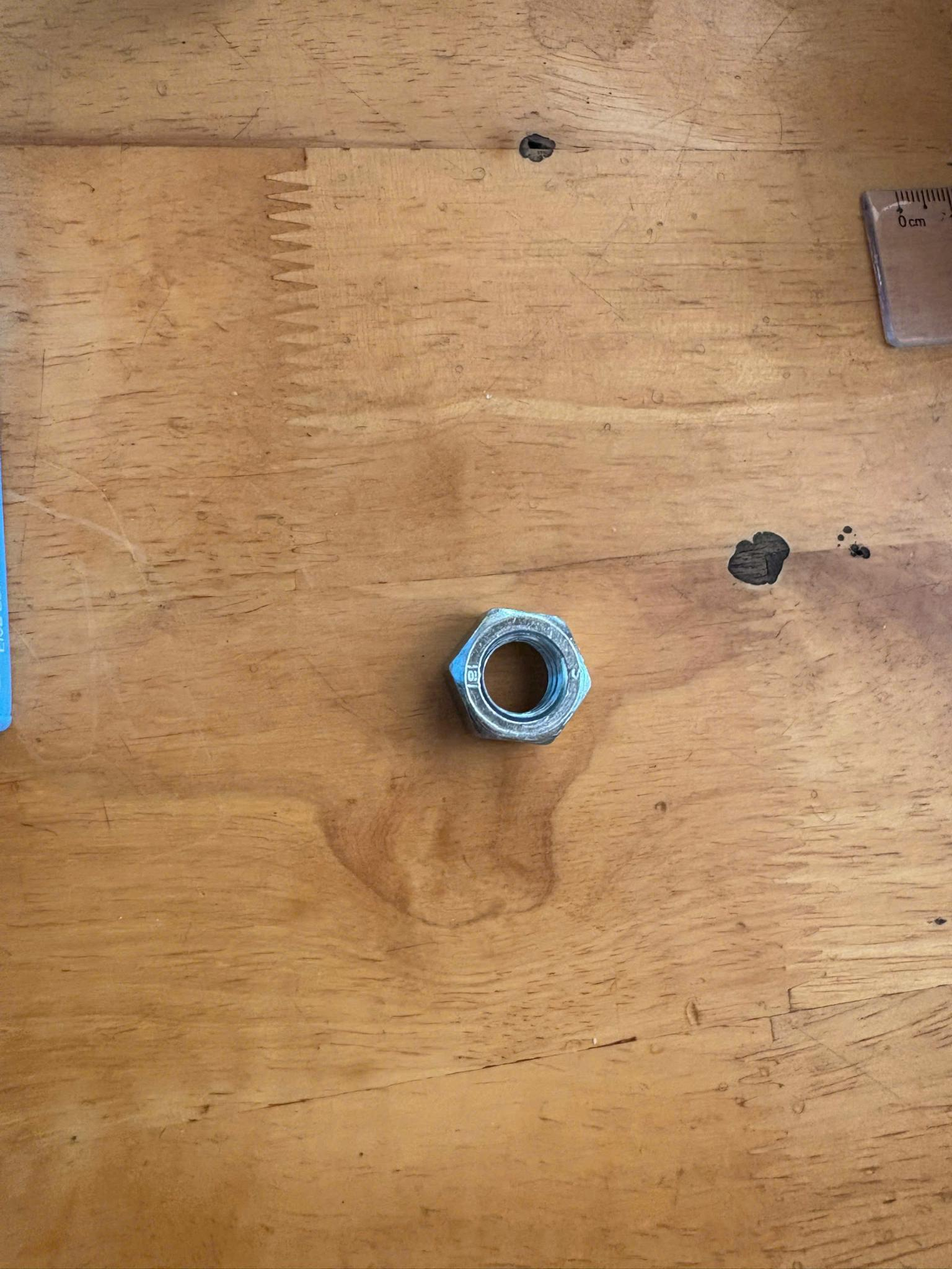nut: (439, 598, 605, 768)
